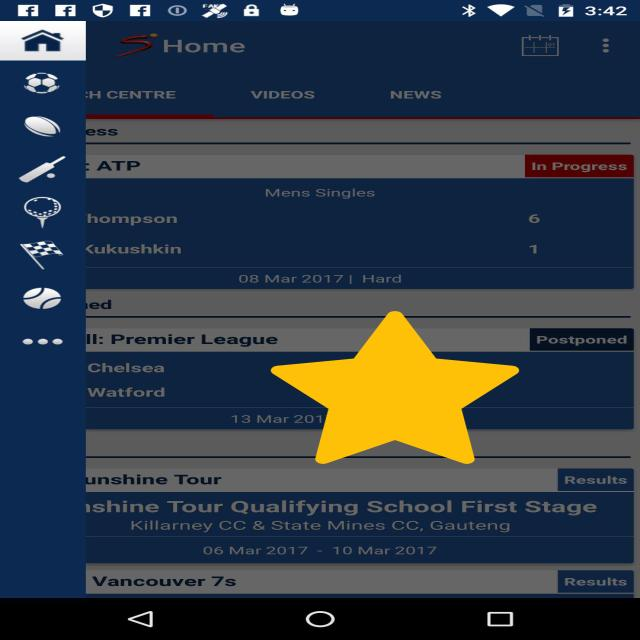forced continuity: (271, 311, 519, 464)
